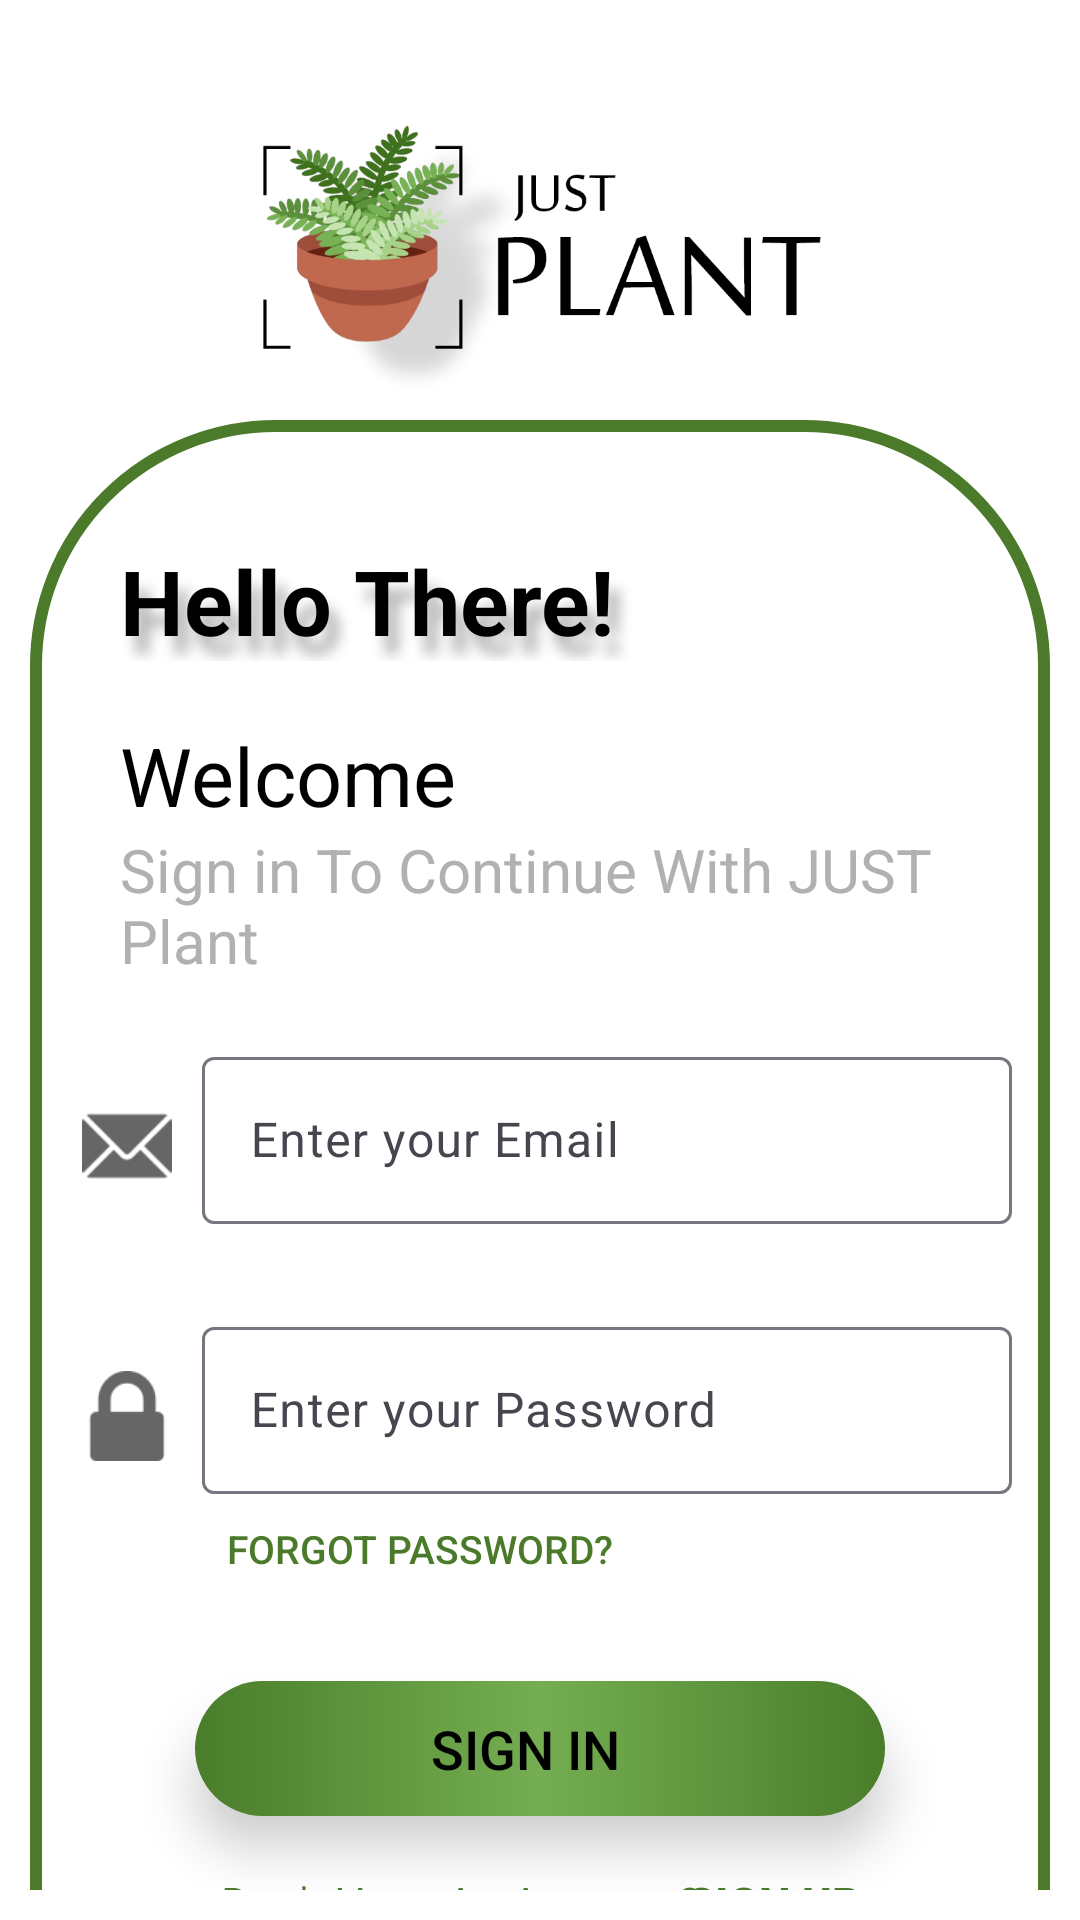

Named icons in this screenshot (1080x1920) and their bounding boxes, box(x1, y1, x2, y2):
lock: box(90, 1371, 164, 1461)
